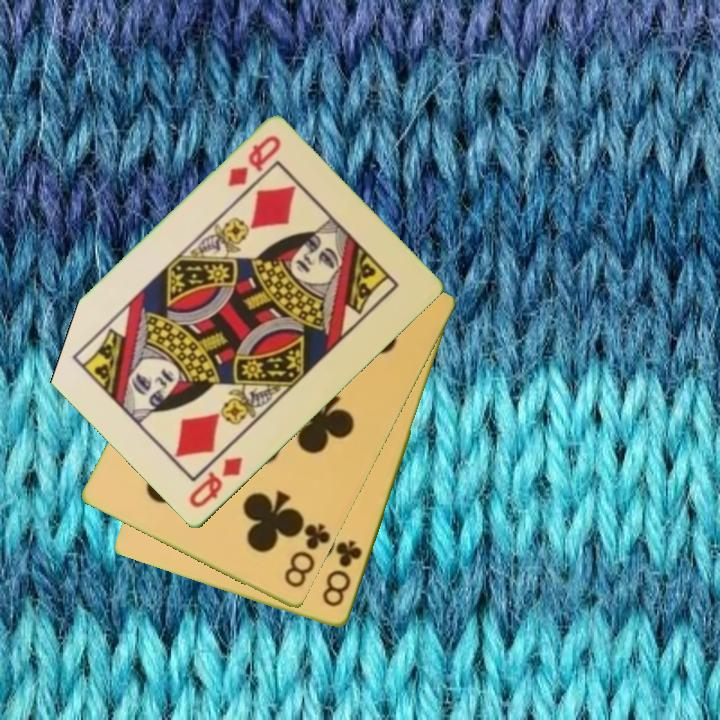8c: (281, 518, 334, 592), (319, 537, 365, 611)
Qd: (185, 453, 246, 512), (224, 132, 284, 191)
